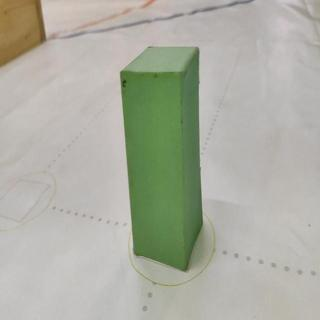greenbox: (119, 45, 202, 273)
